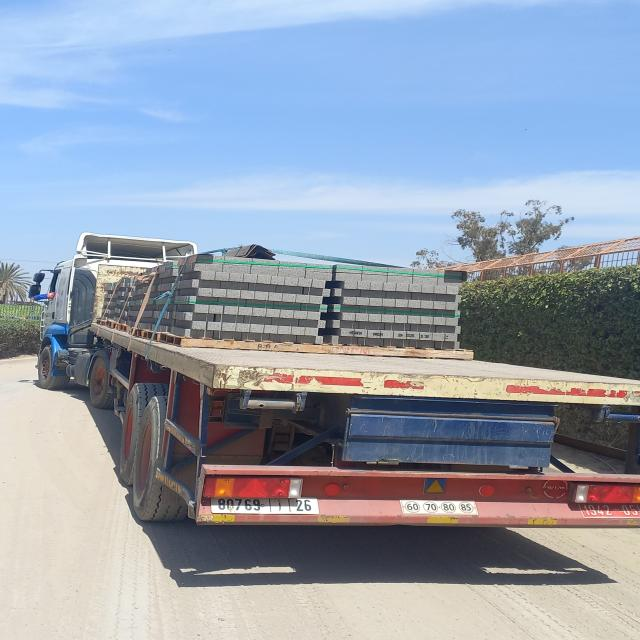bricks: (100, 245, 460, 350)
